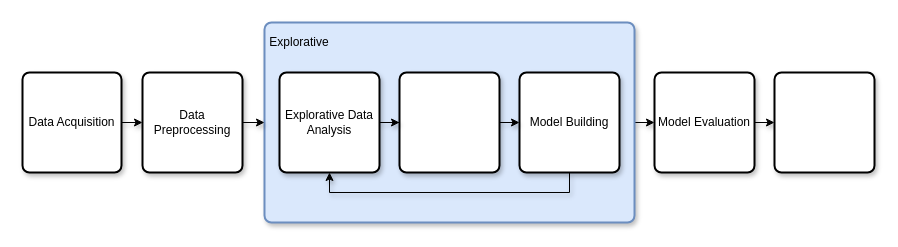
The diagram is 898 pixels wide and 247 high, and some of its shapes have lost their labels. Each missing label, with the centre of its shape:
Deployment and Integration: the point at 825,123
Feature Engineering: the point at 450,123
